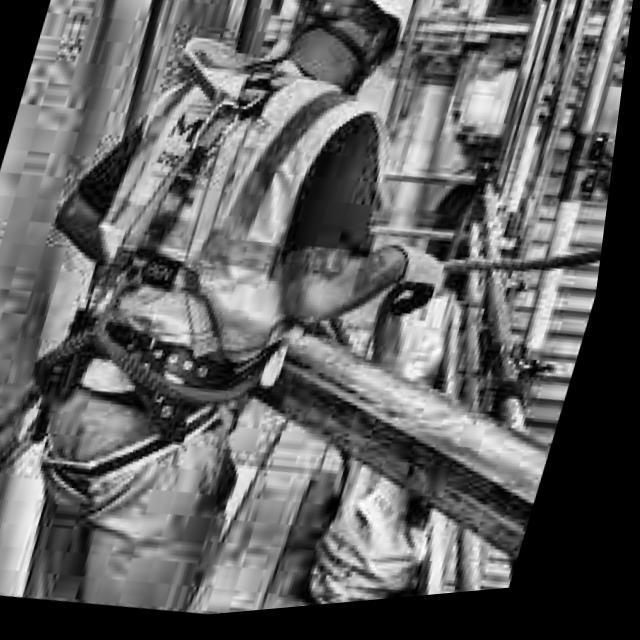safety belt: (96, 48, 277, 440)
